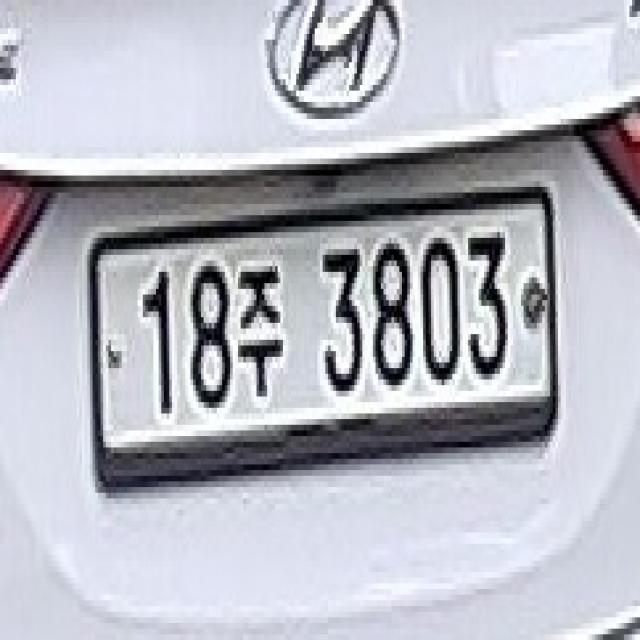0: (420, 227, 463, 390)
1: (140, 260, 177, 430)
3: (314, 232, 368, 408), (466, 221, 510, 385)
8: (185, 255, 235, 425), (370, 226, 418, 396)
ju: (236, 255, 288, 413)
license_plate: (87, 170, 564, 504)
